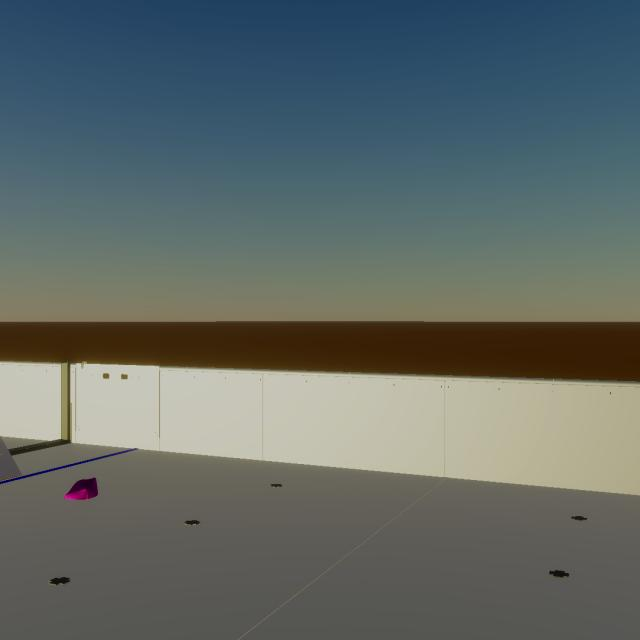frc_cube: (64, 478, 98, 500)
